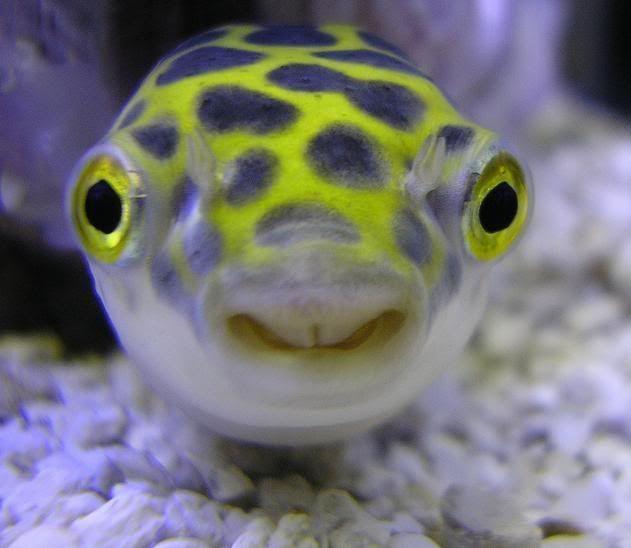Green Spotted Puffer: (69, 0, 537, 446)
